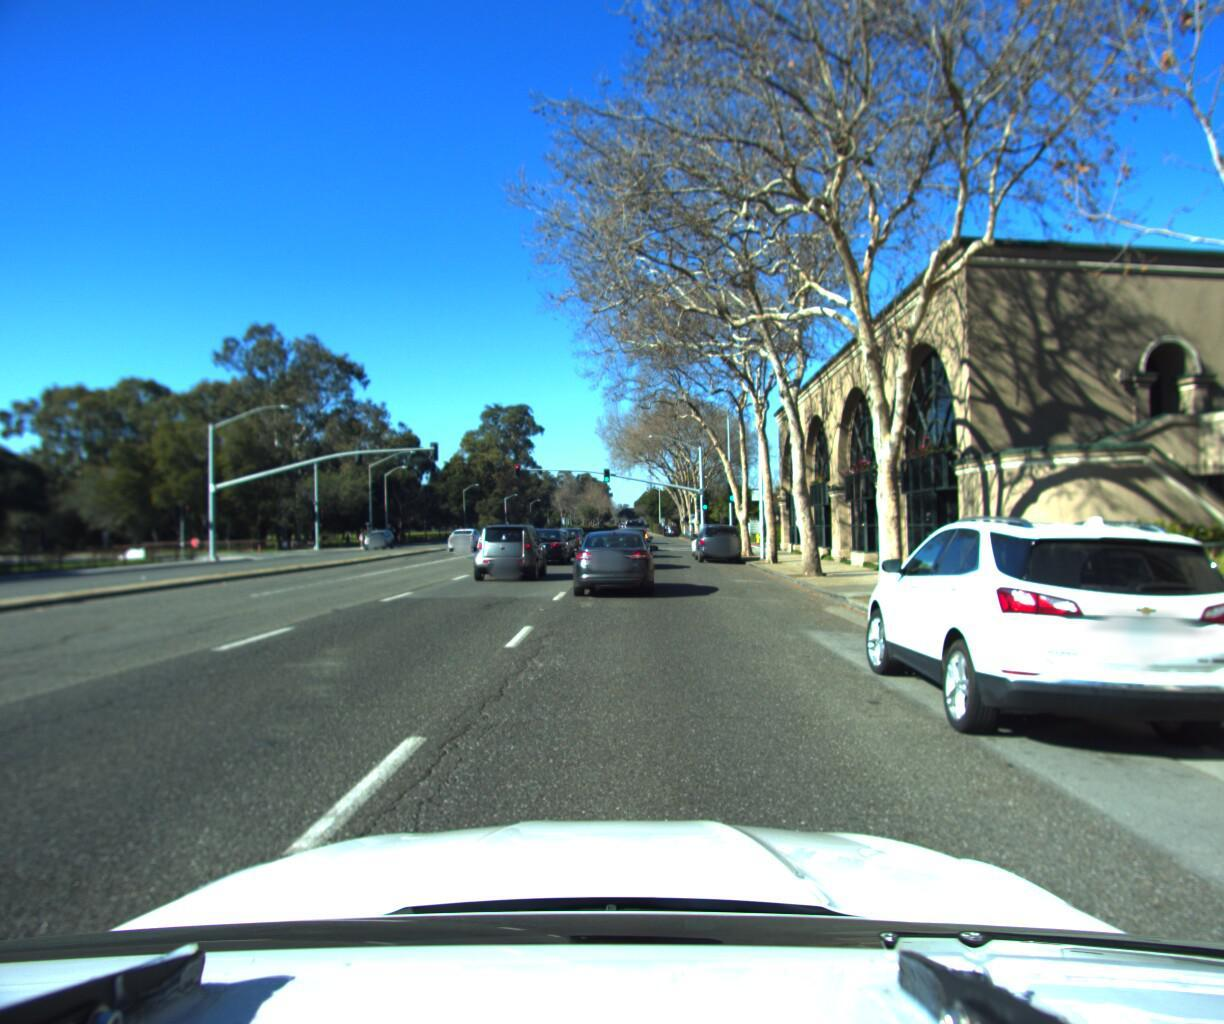car: (851, 494, 1224, 780), (566, 522, 657, 596), (471, 516, 552, 580), (690, 517, 744, 560), (517, 525, 572, 565), (532, 525, 576, 559), (687, 525, 730, 557), (445, 524, 485, 551), (551, 526, 585, 554), (363, 527, 397, 549), (622, 513, 646, 534)
